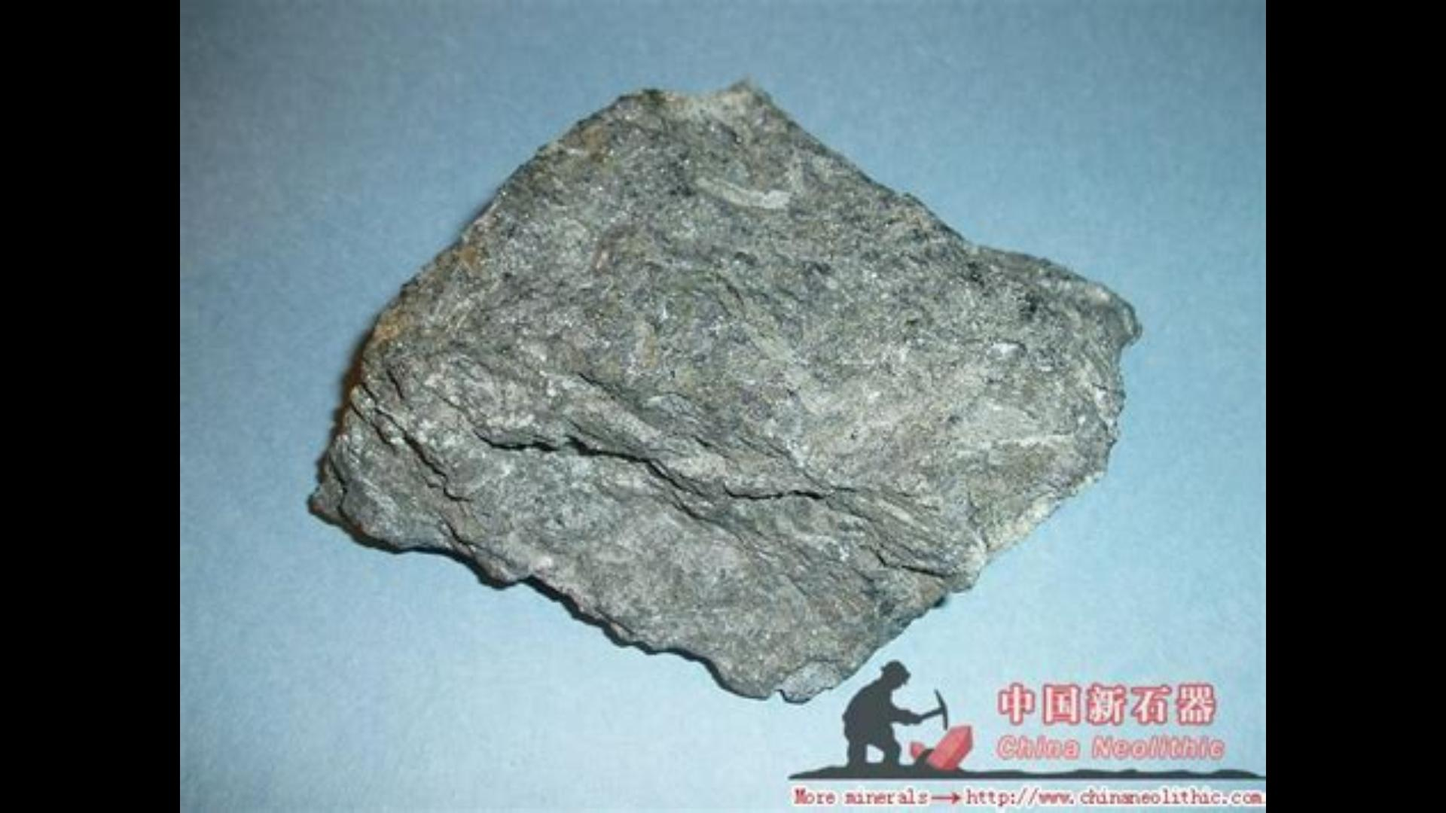rock: (311, 85, 1135, 696)
